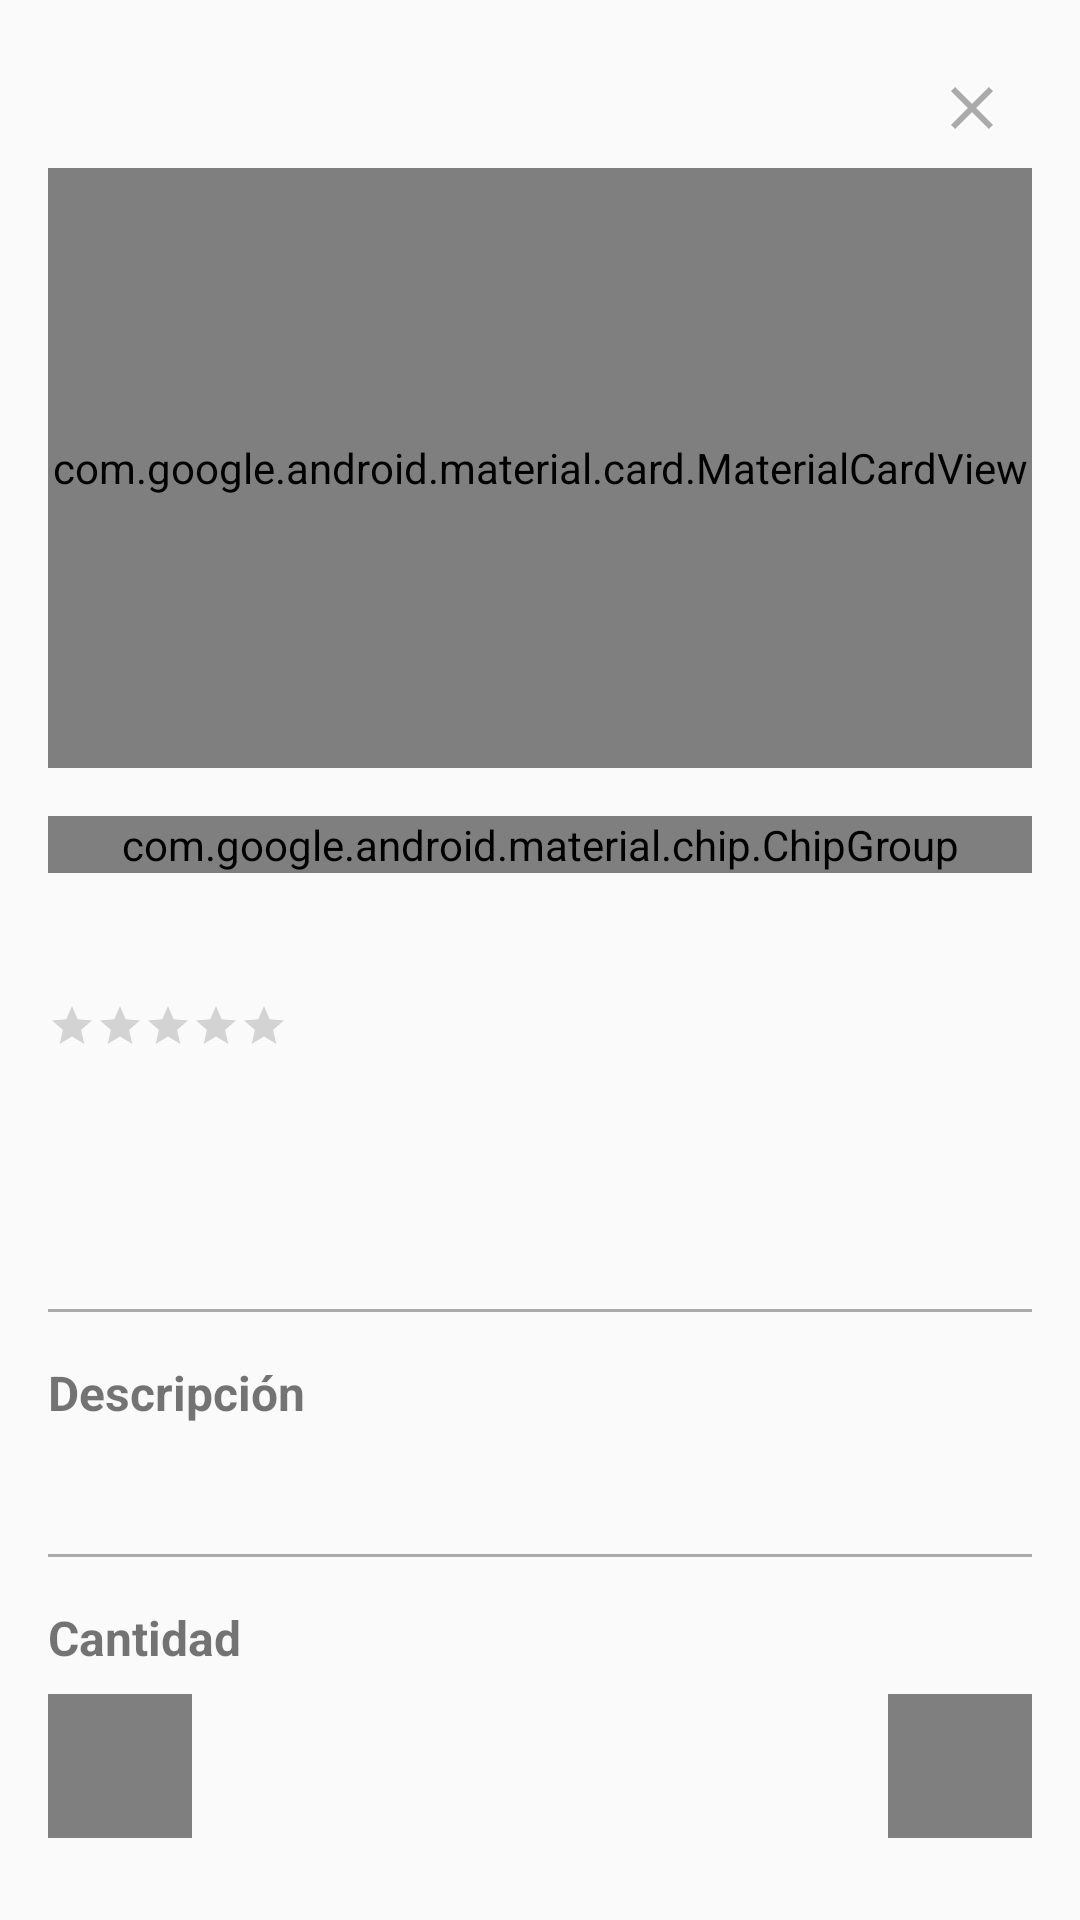

Screen size 1080×1920. Icon name, then its box in pixels as (x1, y1, x2, y2):
Cerrar: (951, 87, 993, 129)
